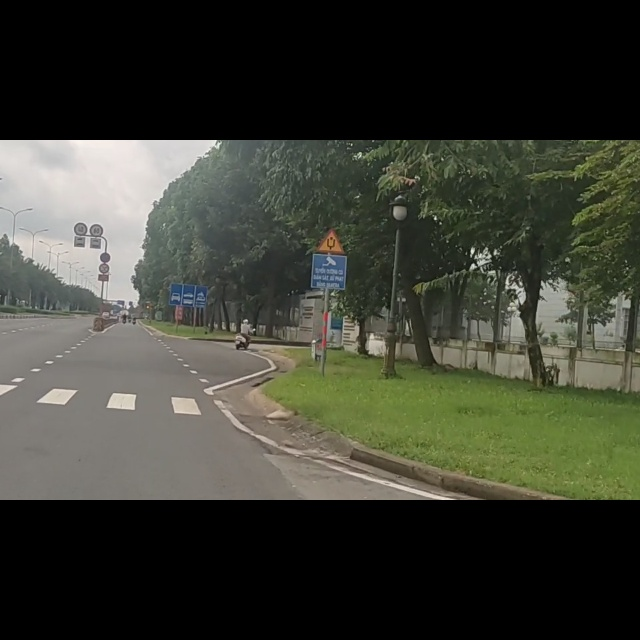bien_nguy_hiem: (315, 155, 347, 203)
